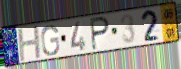2: (140, 9, 162, 45)
3: (119, 13, 137, 46)
4: (69, 20, 87, 52)
G: (40, 24, 61, 57)
H: (16, 24, 43, 64)
P: (89, 16, 111, 53)
